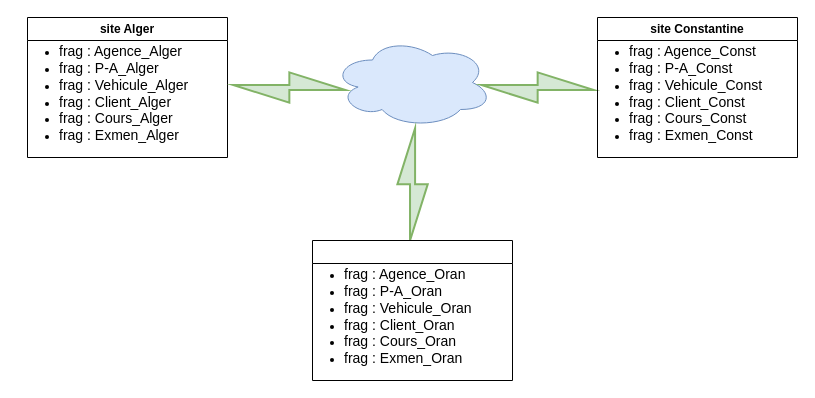
The diagram is 815 pixels wide and 398 high, and some of its shapes have lost their labels. Here are the shapes that lost their labels. From the top down, the box of each, then its label:
(332, 36, 492, 128): Reseau De Communication
(312, 240, 512, 380): site Oran
